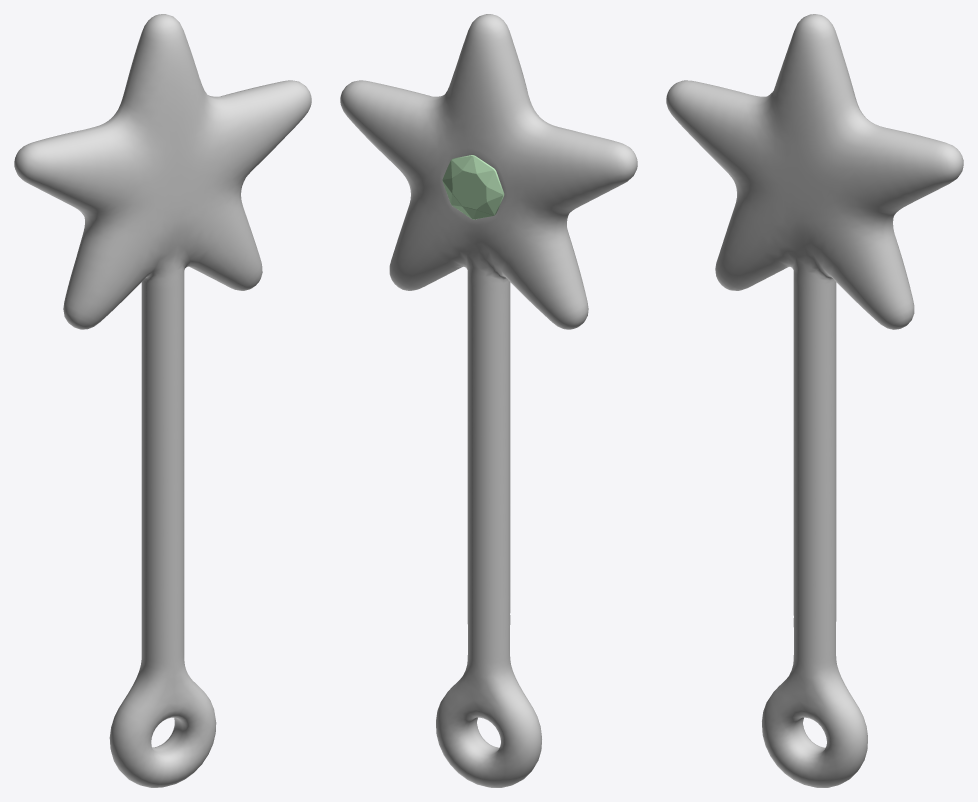
File: wand.glb
The picture shows the model from 3 angles, left to right: view 1: azimuth 30°, elevation 25°; view 2: azimuth 150°, elevation 25°; view 3: azimuth 330°, elevation 25°; orthographic projection.
Parts seen in each view (by area): view 1: Stick; view 2: Stick, Gem; view 3: Stick.
Part boxes in pixels (x1,y1,x2,y2): Stick: (14,14,311,787); Stick: (340,14,637,787); Gem: (442,155,504,219); Stick: (666,14,963,787).
Bounding box in the file's own units: 6.82 × 17.17 × 1.42.
